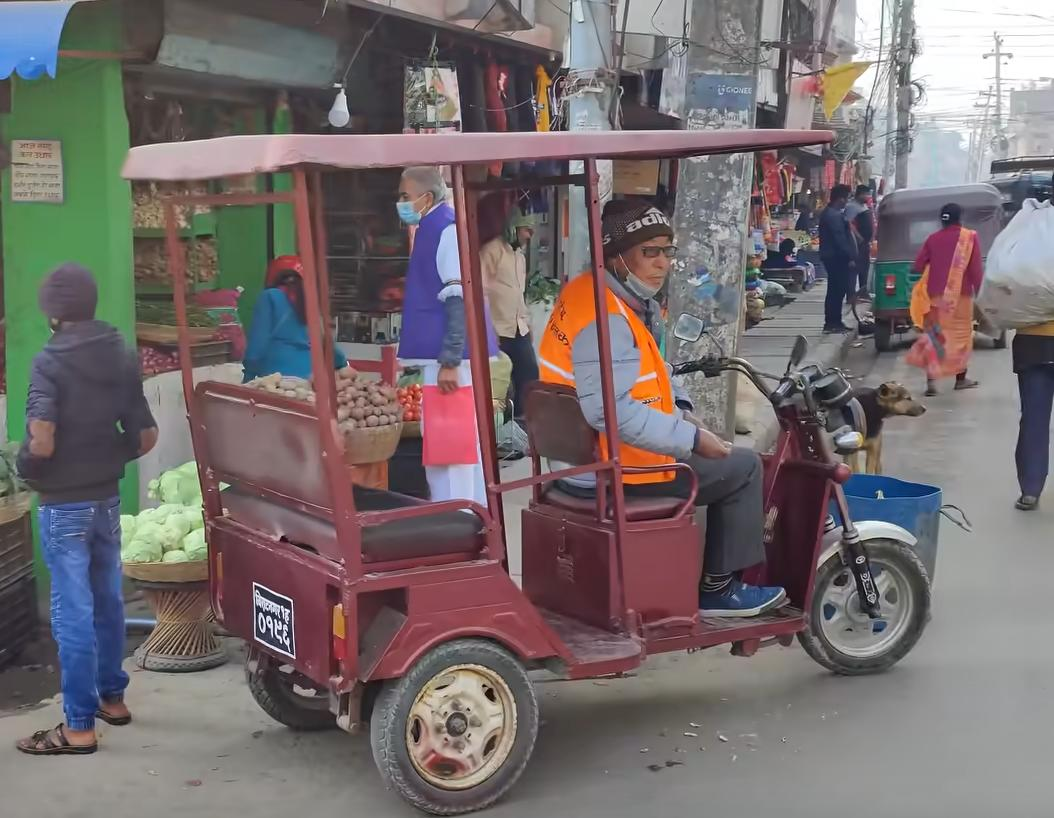auto_rickshaw: (868, 180, 1011, 357)
e-rickshaw: (99, 105, 938, 818)
